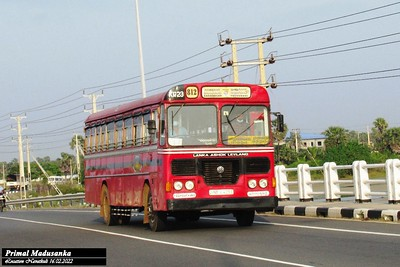bus: (84, 81, 278, 232)
